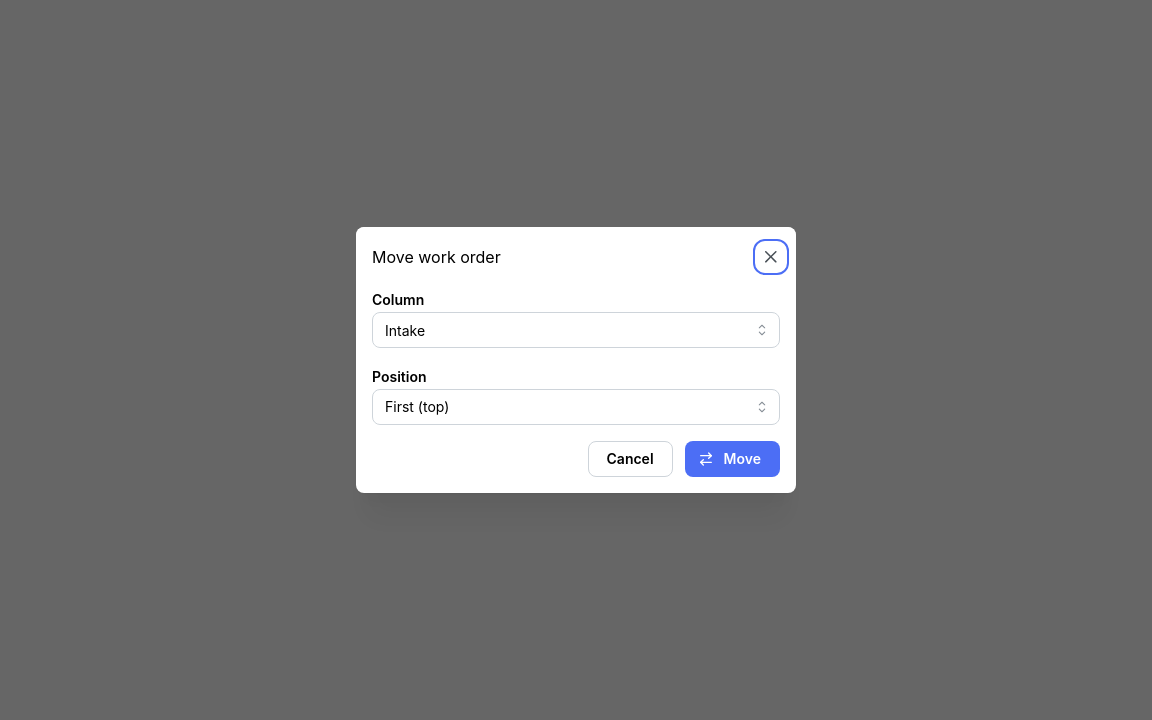
MoveCardModal › always offers First and Last when moving into an empty column (ITEM 2)
The width and height of the screenshot is (1152, 720).
Click the dropdown labelled "Column": (576, 330) 372,312 -> 780,348
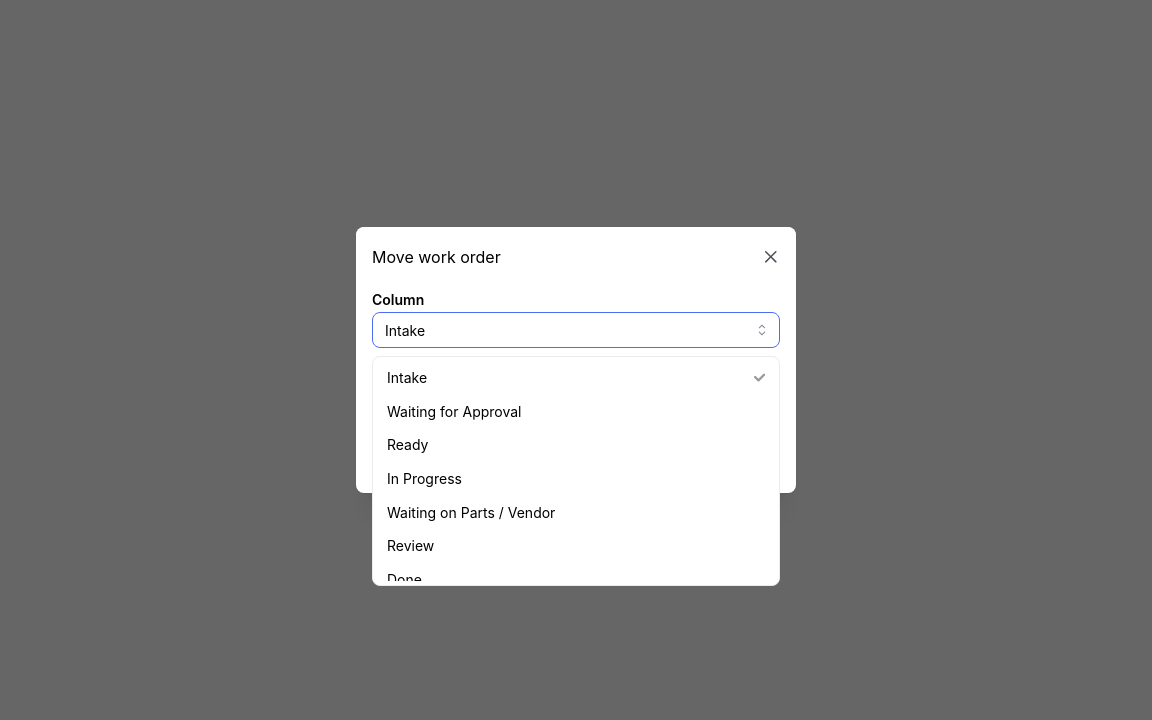
Click the option "Ready": (408, 445) 387,436 -> 428,453
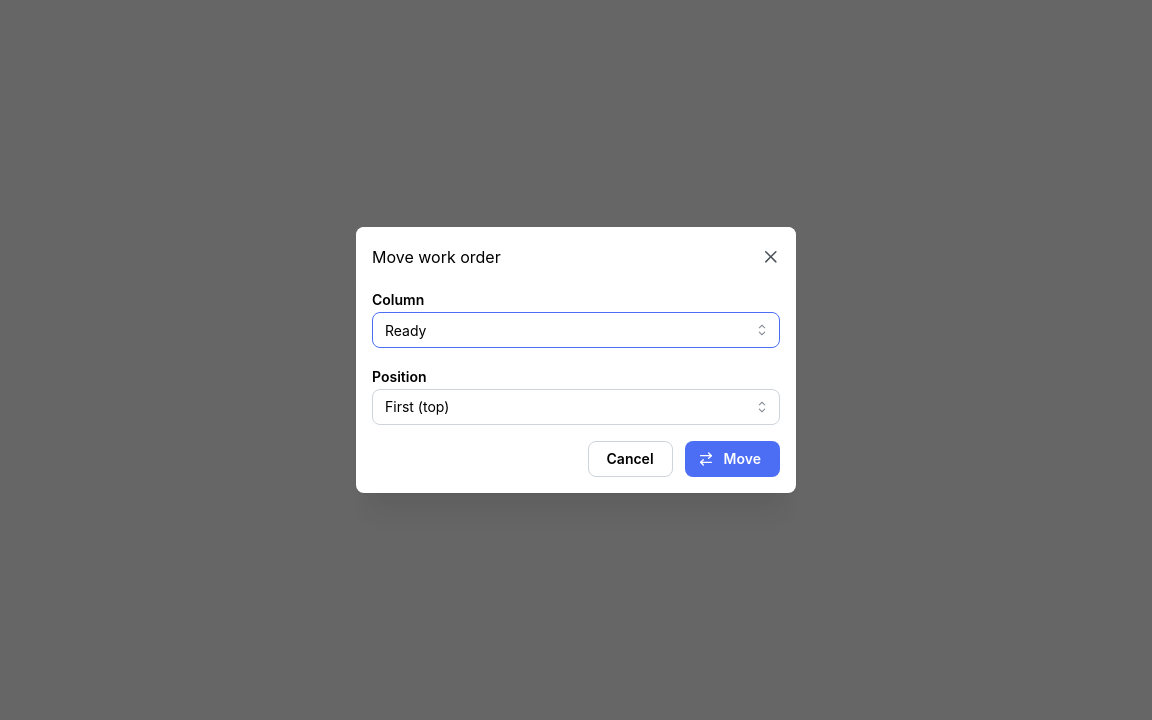
Click the dropdown labelled "Position": (576, 407) 372,389 -> 780,425
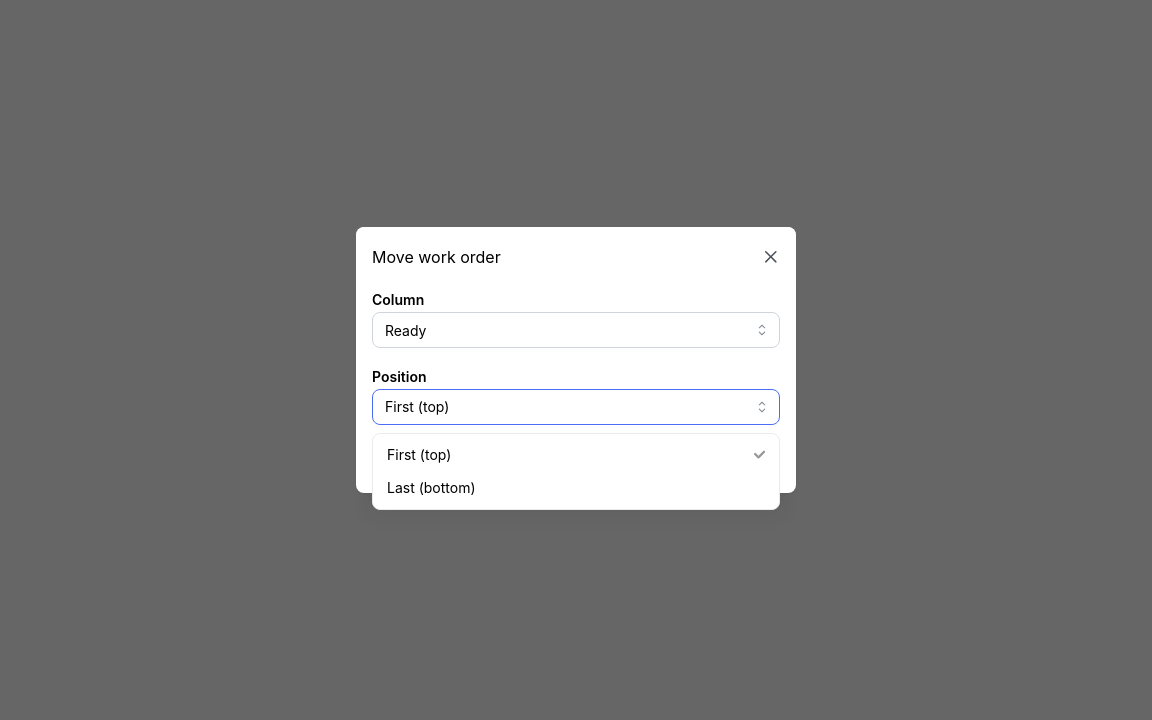
Expected: the number of options is 2, 387,446 -> 765,463; 387,480 -> 476,496
Expected: the option "First (top)" is shown, 387,446 -> 765,463
Expected: the option "Last (bottom)" is shown, 387,480 -> 476,496
